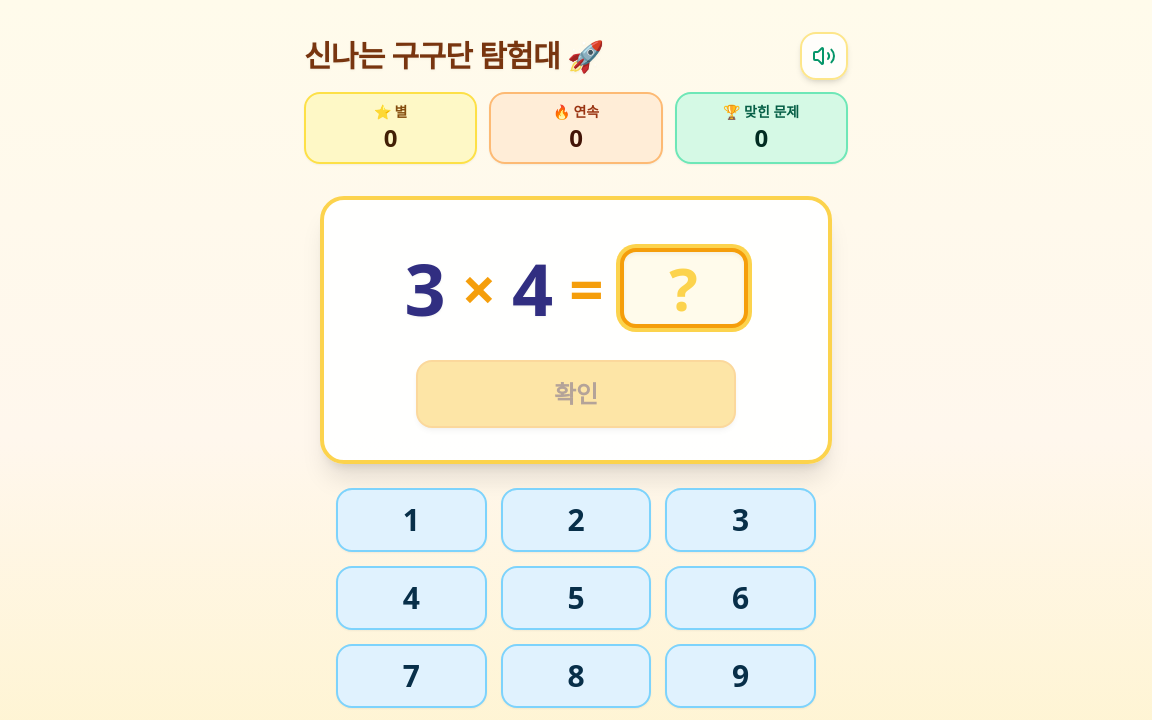
App Integration › handles correct answer submission, shows celebration, and advances to next question
The image size is (1152, 720).
Click the button "1": click(411, 520) left=336, top=488, right=487, bottom=552
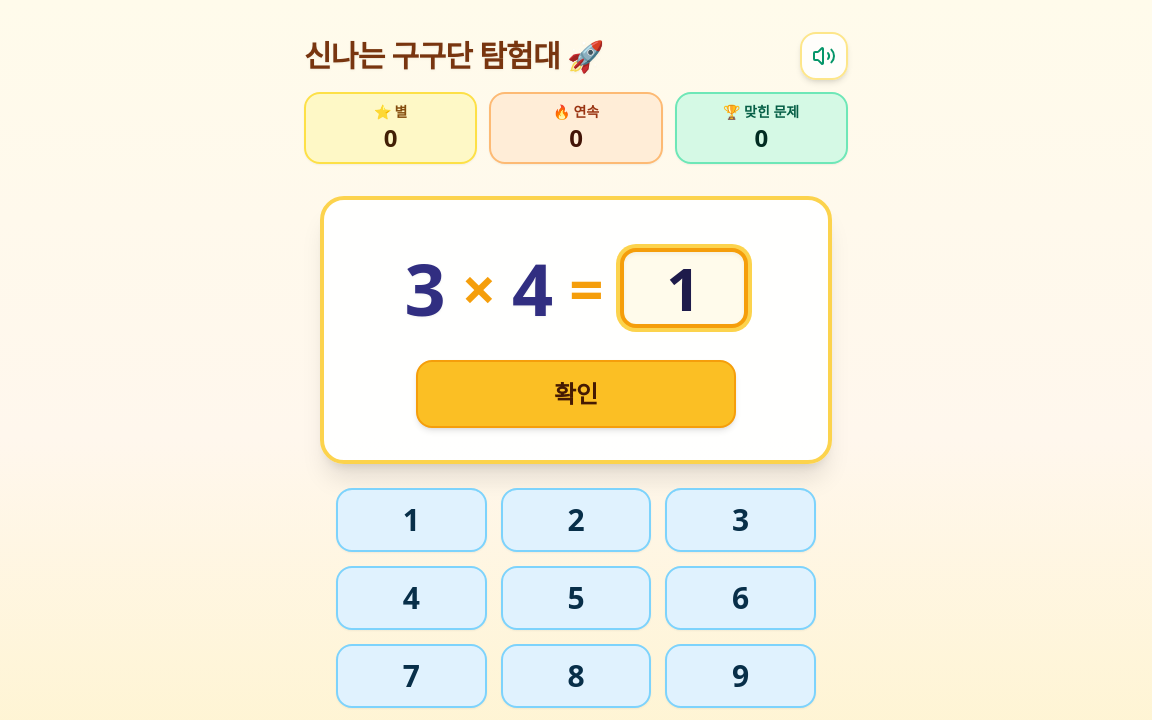
Click the button "2": click(576, 520) left=501, top=488, right=651, bottom=552
(page scrolled)
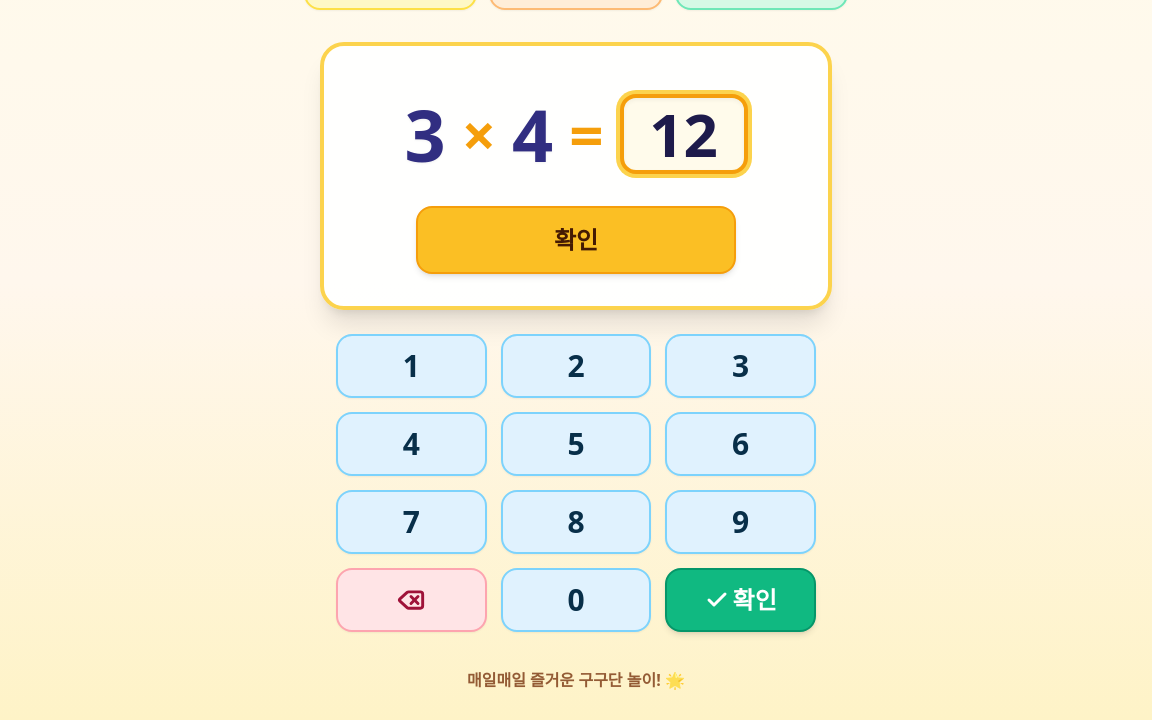
Click the 2nd button "확인": click(741, 600) left=665, top=568, right=816, bottom=632
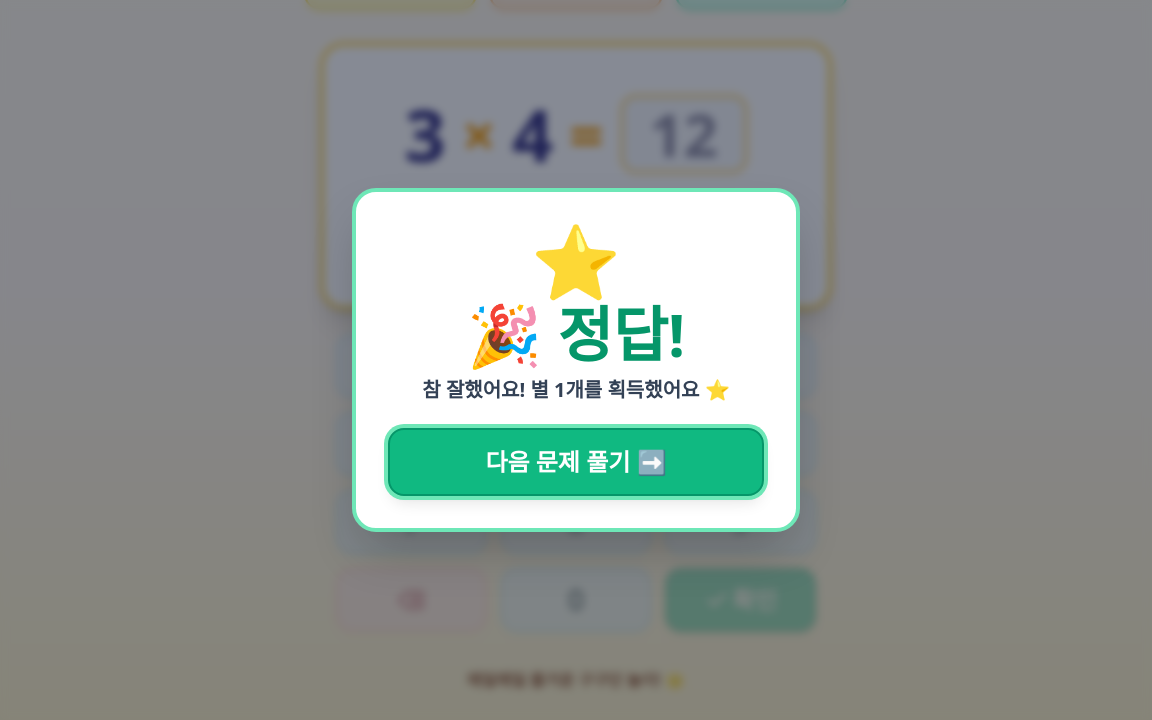
Result: the dialog is shown
Result: the heading "🎉 정답!" is shown at left=467, top=293, right=685, bottom=375
Result: the text "참 잘했어요! 별 1개를 획득했어요 ⭐" is shown at left=422, top=376, right=730, bottom=403
# Advance to next question
Click the button "다음 문제 풀기 ➡️": click(576, 462) left=388, top=428, right=764, bottom=496
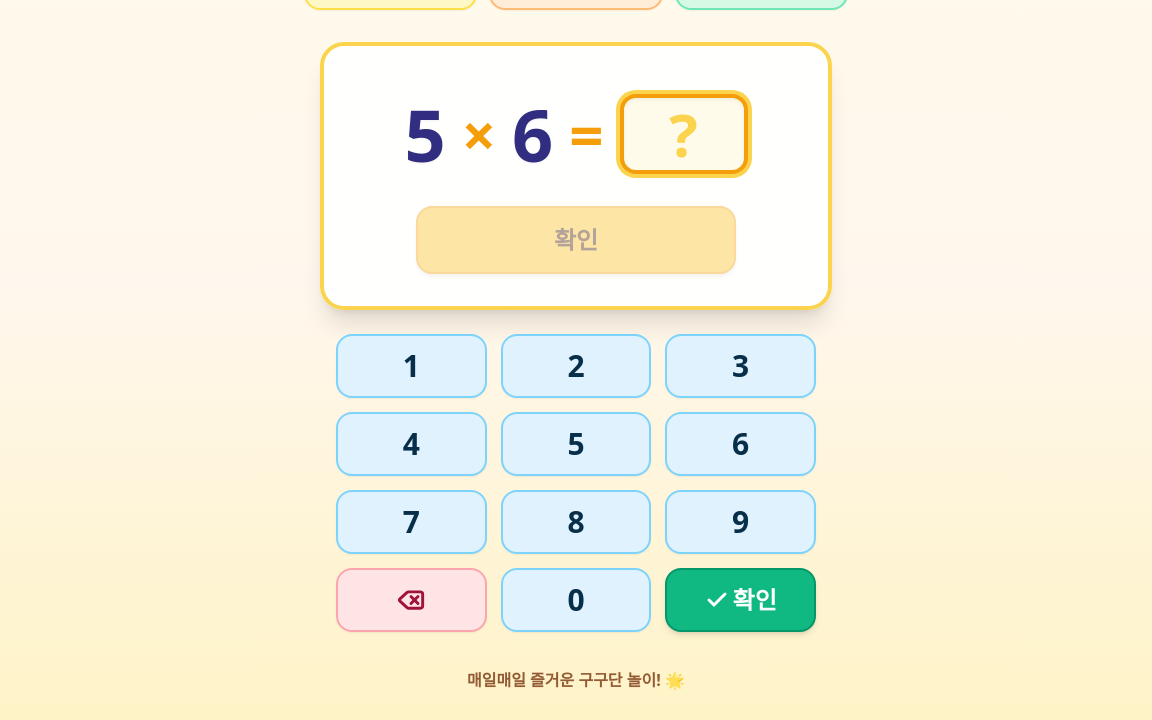
Result: the dialog is gone
Result: the field named "정답 입력" is empty at left=620, top=94, right=748, bottom=174
